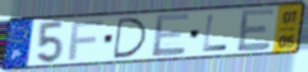5: (34, 19, 65, 65)
D: (112, 16, 149, 60)
E: (150, 12, 191, 59), (235, 7, 276, 54)
F: (67, 18, 106, 62)
L: (201, 13, 230, 53)
